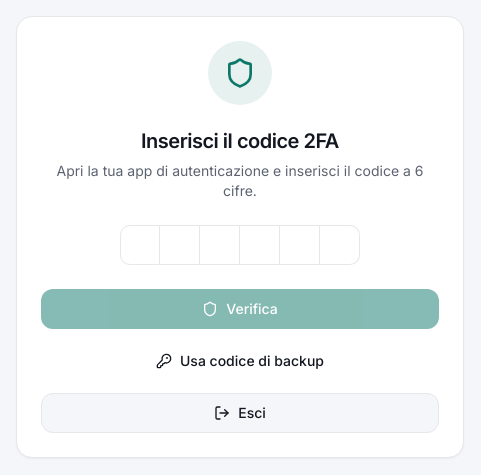
Test case: MfaVerifyPage › shows backup code input when 'Usa codice di backup' clicked
This screenshot has width=481, height=475.
Click the button "Usa codice di backup".
click(240, 361)  # box [41, 341, 439, 381]
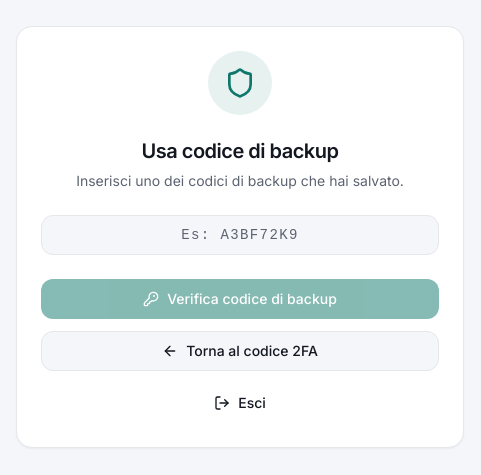
Expected: the field with placeholder "Es: A3BF72K9" is shown, [41, 215, 439, 255]
Expected: the button "Verifica codice di backup" is shown, [41, 279, 439, 319]
Expected: the button "Torna al codice 2FA" is shown, [41, 331, 439, 371]
